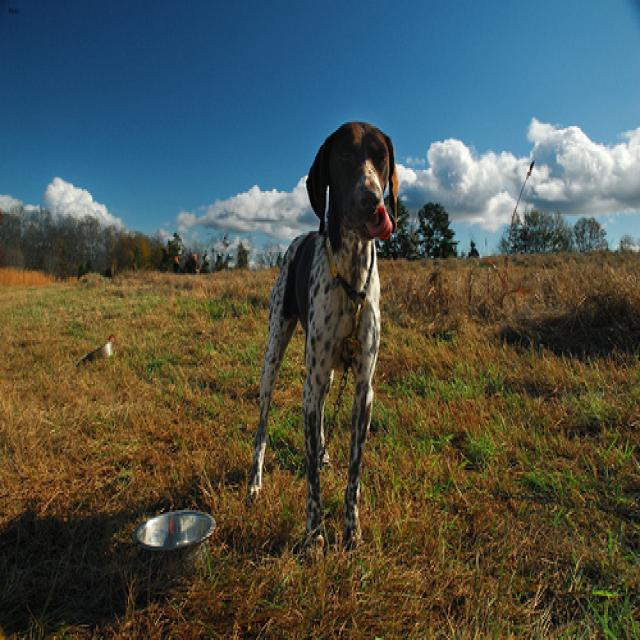dog-german_shorthaired: (242, 113, 403, 556)
